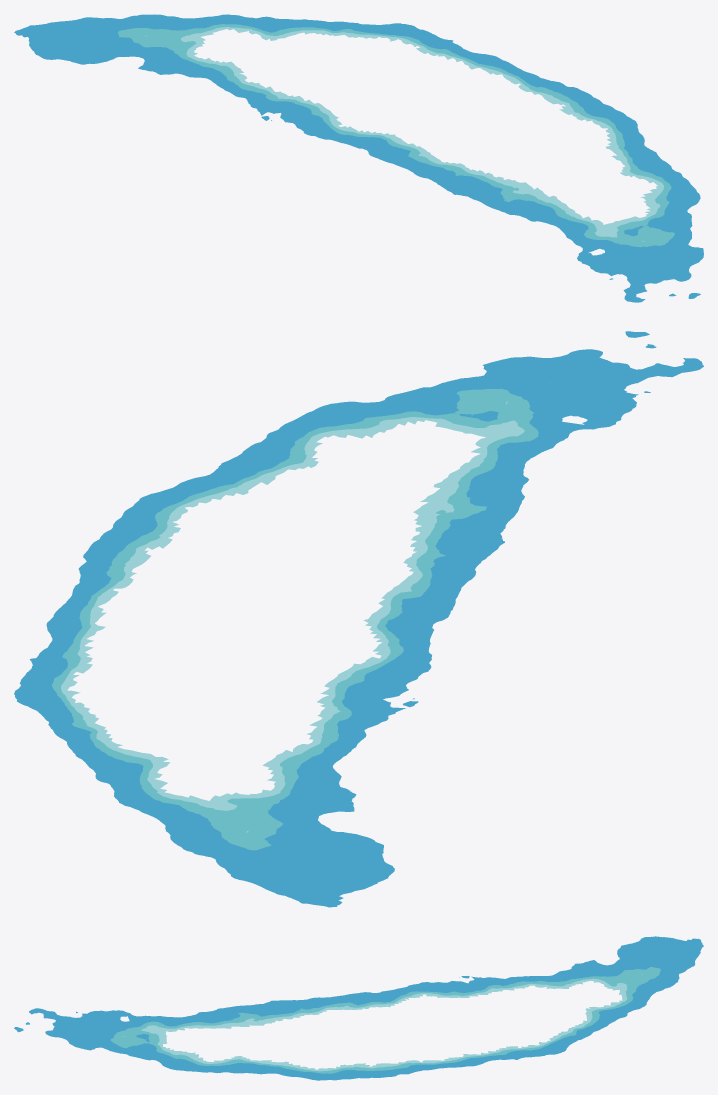
File: Isl-long2-Water.fbx
The picture shows the model from 3 angles, top to bottom: view 1: azimuth 30°, elevation 25°; view 2: azimuth 150°, elevation 25°; view 3: azimuth 270°, elevation 25°; orthographic projection. The views are drawn at different scales.
Visible parts, largest first — view 1: Isl-long2-Water; view 2: Isl-long2-Water; view 3: Isl-long2-Water.
Boxes of the visible parts, bbox=[...] form: Isl-long2-Water: bbox=[14, 14, 703, 302]; Isl-long2-Water: bbox=[14, 331, 703, 907]; Isl-long2-Water: bbox=[14, 936, 703, 1080].
Size of the model in its own units: 94.3 by 0 by 191.
